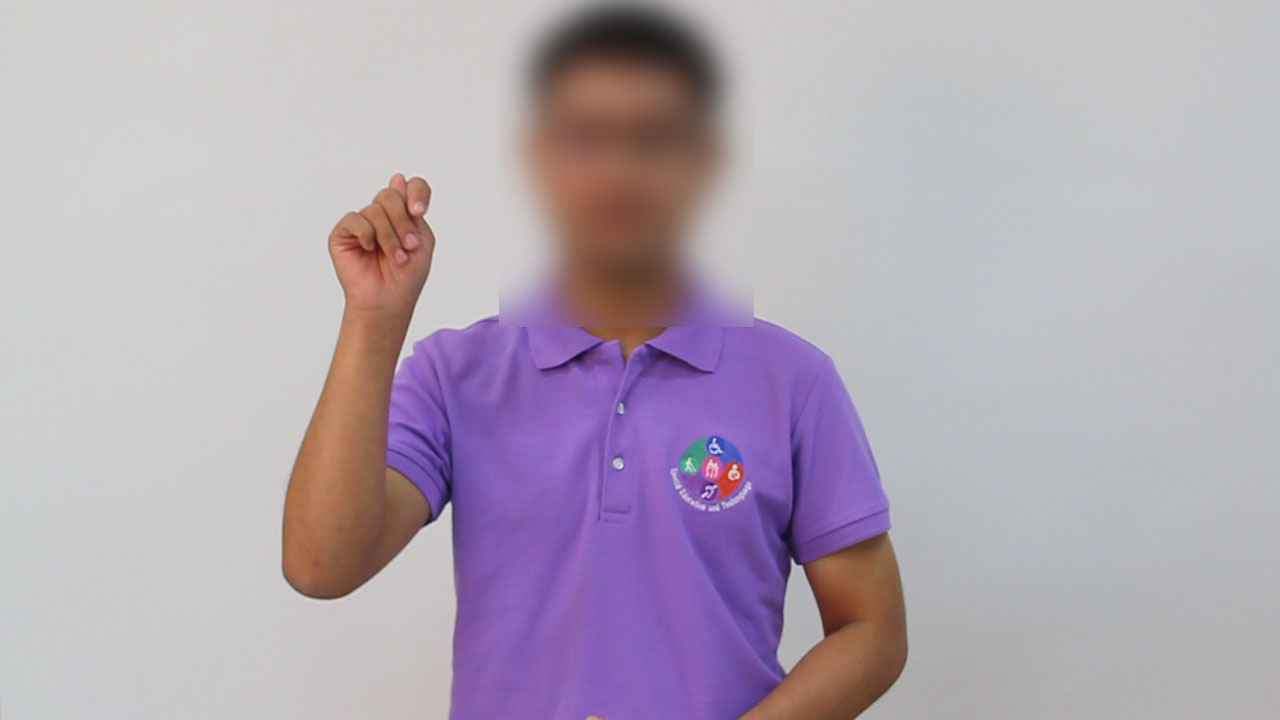tor: (316, 168, 456, 337)
